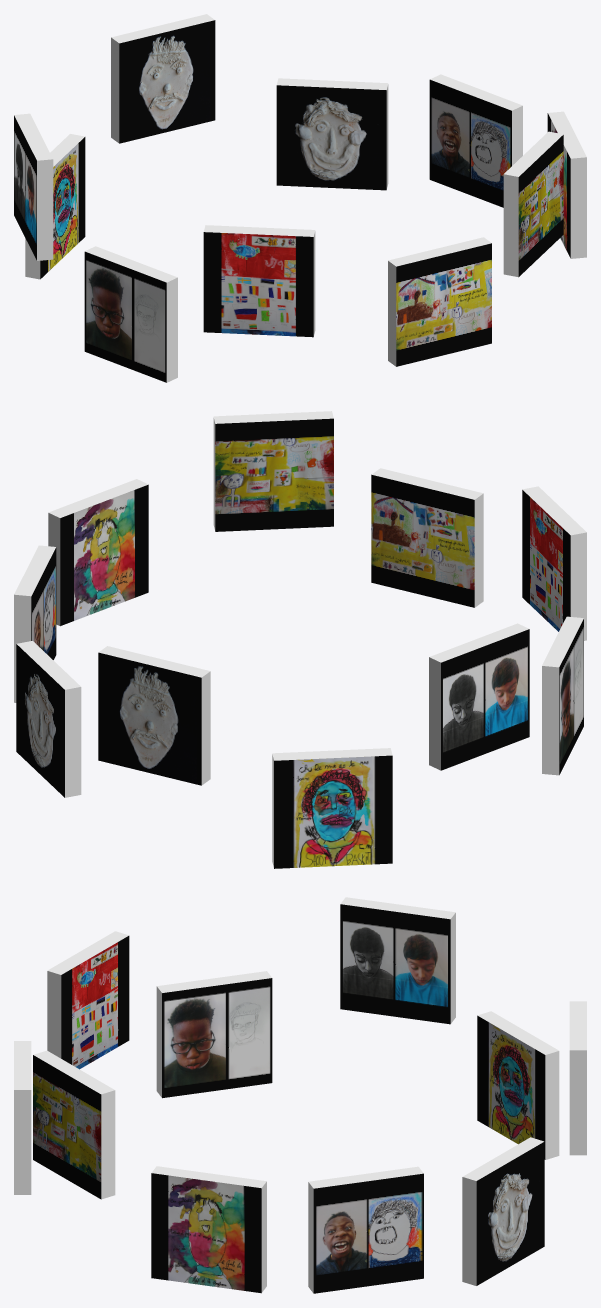
The model's file is 10_square.obj.
3 views of the same model, one above another, from view 1: azimuth 30°, elevation 25°; view 2: azimuth 150°, elevation 25°; view 3: azimuth 270°, elevation 25° (orthographic). The views are drawn at different scales.
Visible parts, largest first — view 1: Cube_2, Cube_7, Cube_1, Cube_6, Cube_8, Cube_3, Cube_5, Cube_9, Cube_10, Cube_4; view 2: Cube_10, Cube_5, Cube_1, Cube_6, Cube_9, Cube_4, Cube_2, Cube_7, Cube_8, Cube_3; view 3: Cube_8, Cube_4, Cube_3, Cube_9, Cube_2, Cube_5, Cube_10, Cube_7, Cube_1, Cube_6.
Boxes of the visible parts, box(x1,y1,x2,y2) form: Cube_2: box(276, 78, 388, 190); Cube_7: box(203, 225, 315, 337); Cube_1: box(111, 14, 215, 143); Cube_6: box(388, 237, 491, 366); Cube_8: box(84, 246, 177, 382); Cube_3: box(429, 74, 522, 207); Cube_5: box(503, 131, 563, 277); Cube_9: box(14, 113, 53, 260); Cube_10: box(25, 134, 85, 279); Cube_4: box(547, 111, 586, 258); Cube_10: box(272, 748, 392, 868); Cube_5: box(213, 411, 333, 531); Cube_1: box(98, 646, 210, 785); Cube_6: box(371, 468, 483, 607); Cube_9: box(429, 623, 529, 770); Cube_4: box(48, 479, 148, 626); Cube_2: box(16, 641, 81, 797); Cube_7: box(522, 486, 586, 640); Cube_8: box(542, 616, 583, 775); Cube_3: box(14, 545, 56, 702); Cube_8: box(156, 971, 272, 1098); Cube_4: box(151, 1166, 266, 1293); Cube_3: box(308, 1166, 423, 1293); Cube_9: box(340, 897, 455, 1024); Cube_2: box(462, 1137, 544, 1285); Cube_5: box(33, 1050, 115, 1199); Cube_10: box(477, 1011, 559, 1159); Cube_7: box(47, 931, 129, 1069); Cube_1: box(569, 1001, 586, 1155); Cube_6: box(14, 1041, 31, 1194).
Size of the model in its own units: 1525 by 577 by 1483.
Materials: 11 (10 with a texture image).
